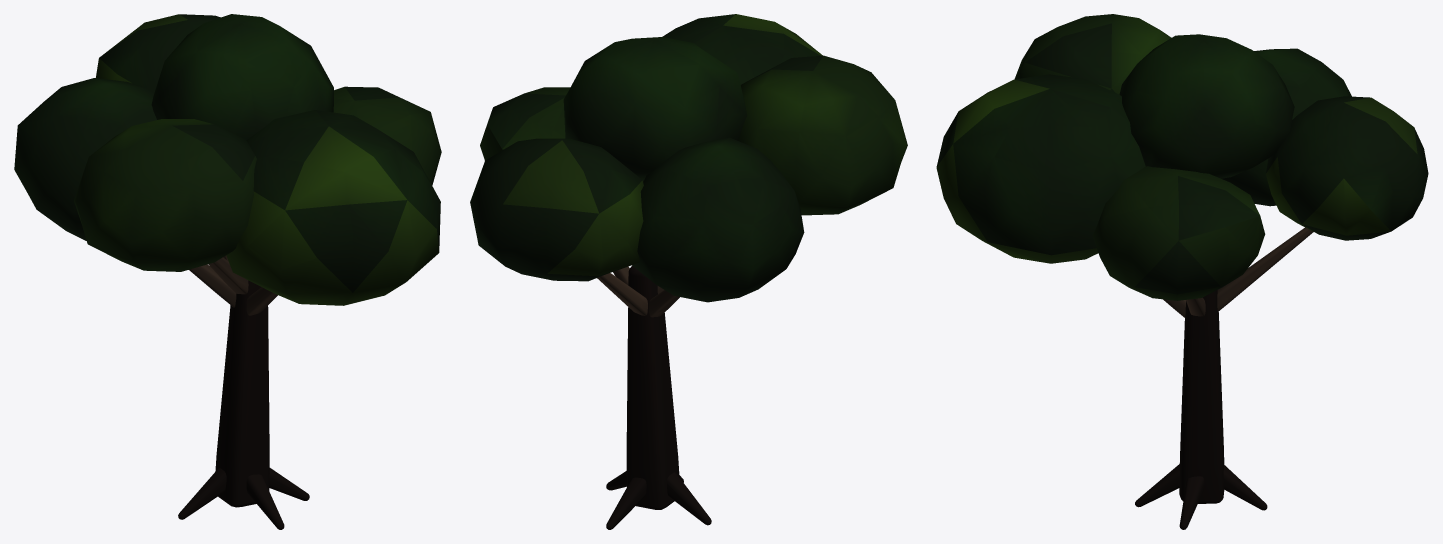
File: Arvore2A.fbx
3 views of the same model, side by side, from view 1: azimuth 30°, elevation 25°; view 2: azimuth 150°, elevation 25°; view 3: azimuth 270°, elevation 25° (orthographic). The views are drawn at different scales.
Visible parts, largest first — view 1: Arvore2A; view 2: Arvore2A; view 3: Arvore2A.
Part boxes in pixels (left/top/right/bottom): Arvore2A: left=14, top=14, right=441, bottom=529; Arvore2A: left=470, top=14, right=907, bottom=529; Arvore2A: left=936, top=14, right=1428, bottom=529.
Size of the model in its own units: 3.74 by 4.57 by 4.4.
